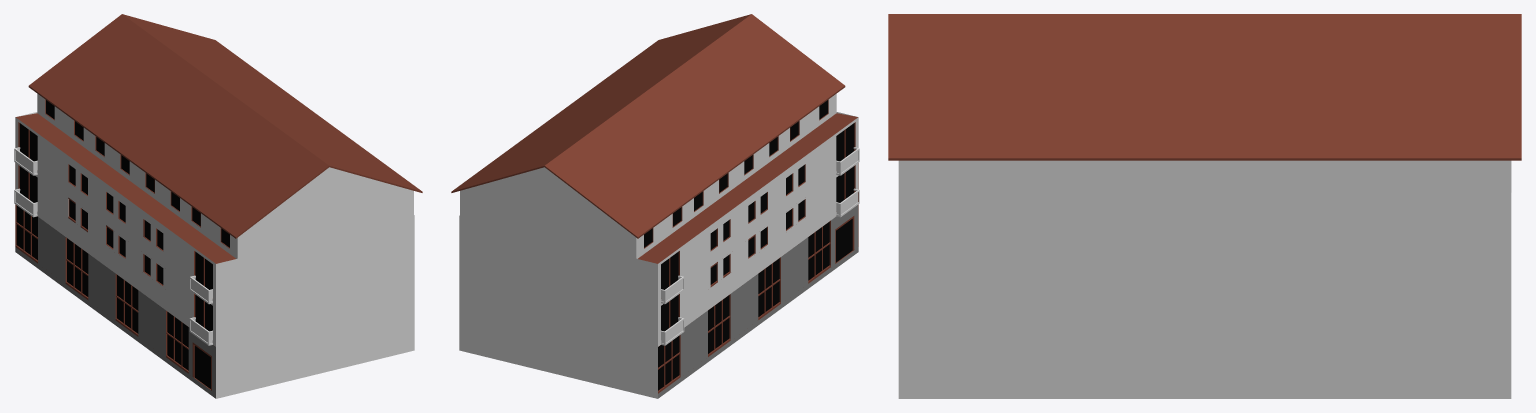
Rendered from FlerfamiljKvHasten.glb.
3 renders of one model, left to right at view 1: azimuth 30°, elevation 25°; view 2: azimuth 150°, elevation 25°; view 3: azimuth 270°, elevation 25°, orthographic. The views are drawn at different scales.
Parts seen in each view (by area): view 1: building_001; view 2: building_001; view 3: building_001.
Part boxes in pixels (x1,y1,x2,y2): building_001: (14, 14, 422, 398); building_001: (451, 14, 859, 398); building_001: (888, 14, 1521, 398).
Size of the model in its own units: 12.55 by 12.07 by 21.7.
